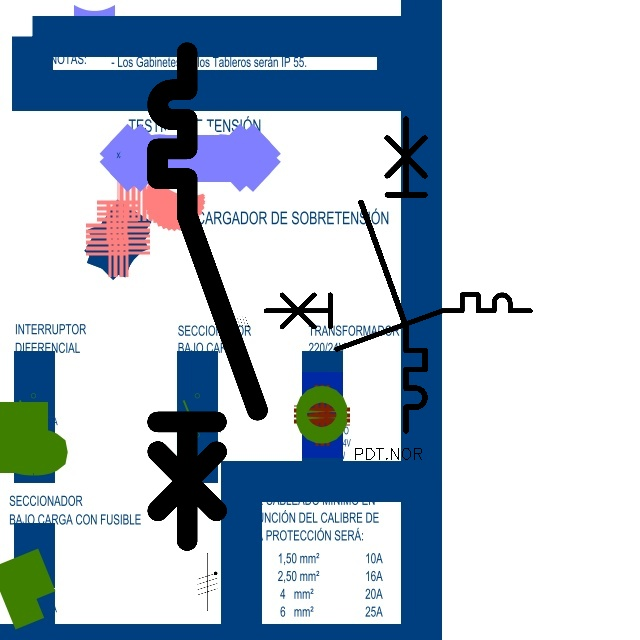interruptor_termomagnetico: (145, 40, 270, 553), (353, 111, 433, 439), (259, 288, 536, 356)
